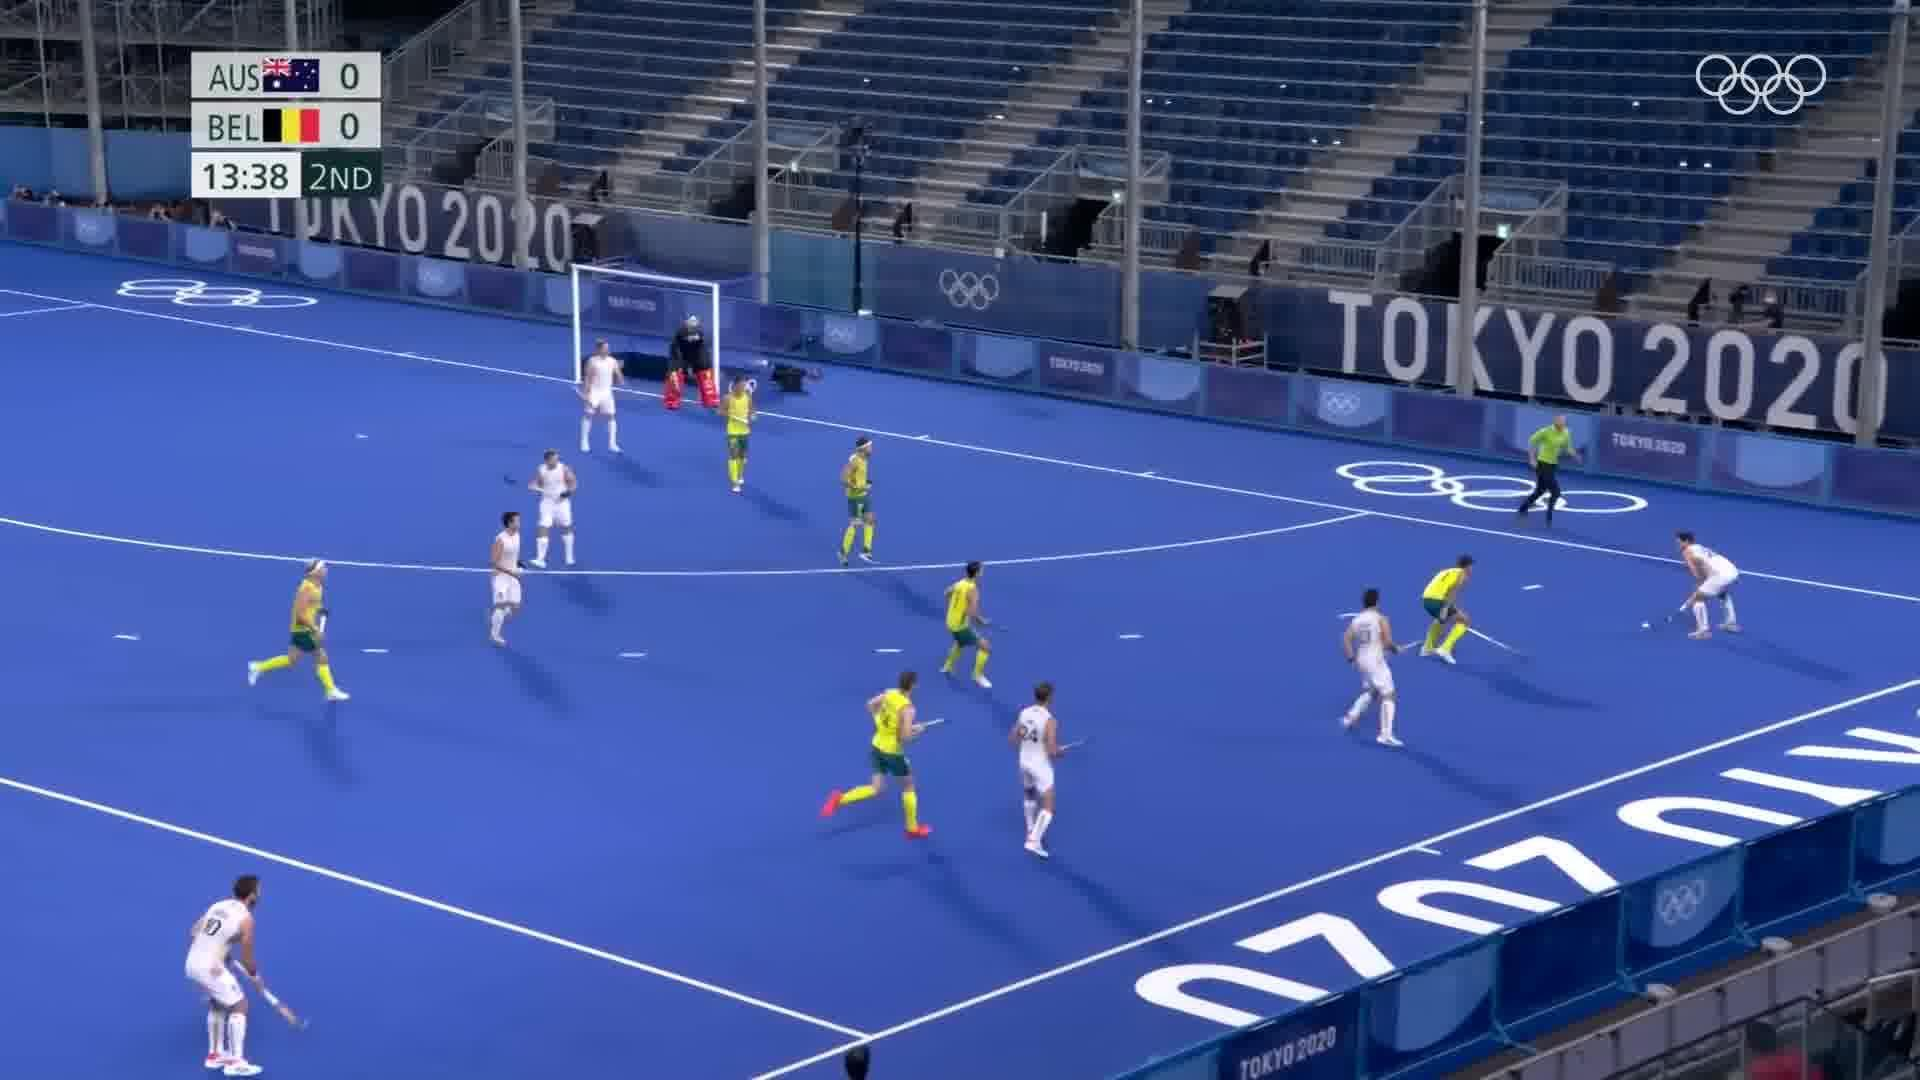ball: (1636, 617, 1654, 636)
